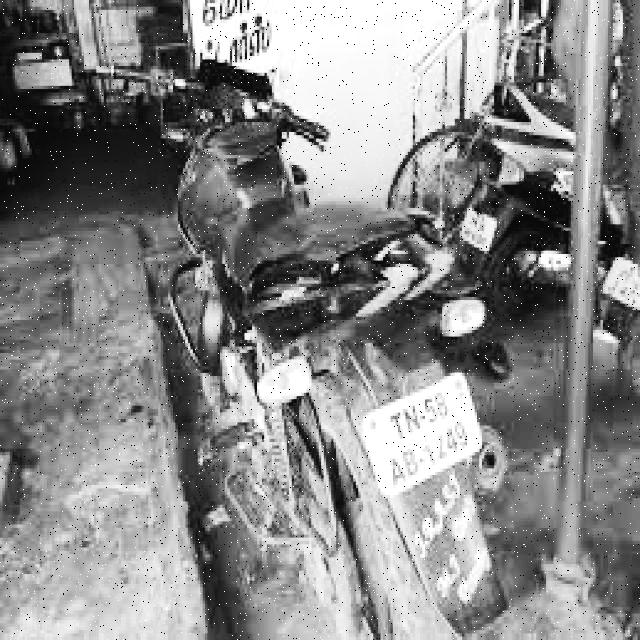Bike: (103, 62, 511, 640), (452, 75, 600, 273)
